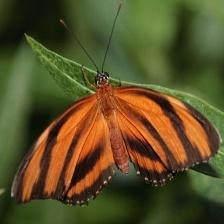butterfly: (12, 73, 221, 206)
